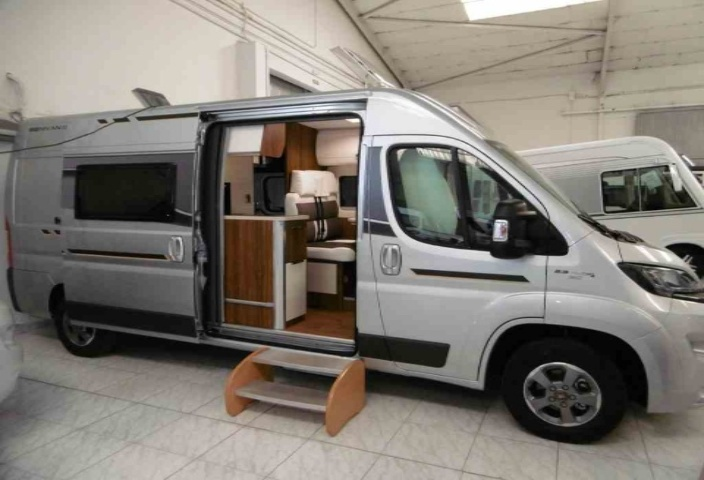van: (3, 78, 704, 425)
